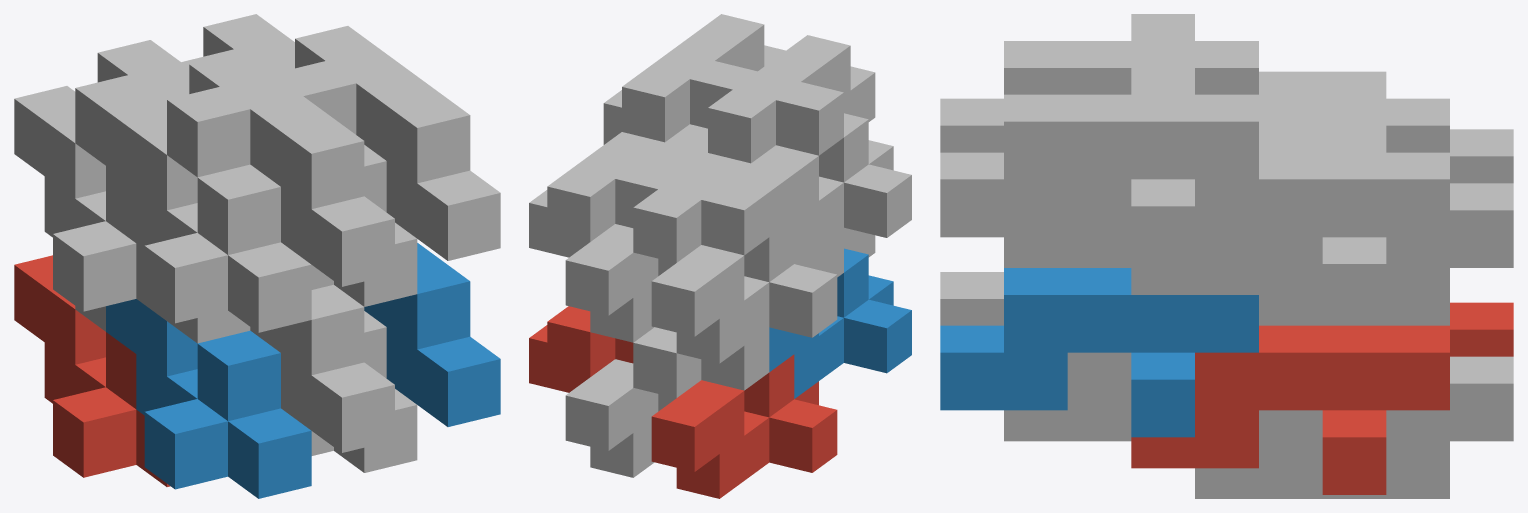
File: tiling.obj
3 renders of one model, left to right at view 1: azimuth 30°, elevation 25°; view 2: azimuth 150°, elevation 25°; view 3: azimuth 270°, elevation 25°, orthographic. The views are drawn at different scales.
Visible parts, largest first — view 1: copy_1_domain_4, copy_2_domain_4, copy_1_domain_2, copy_2_domain_8, copy_1_domain_3, copy_1_domain_1, copy_2_domain_2, copy_2_domain_6, copy_2_domain_3, copy_1_domain_8, copy_1_domain_6, copy_2_domain_7; view 2: copy_1_domain_1, copy_1_domain_3, copy_2_domain_4, copy_1_domain_4, copy_2_domain_8, copy_2_domain_3, copy_2_domain_7, copy_1_domain_2, copy_1_domain_5, copy_1_domain_7, copy_2_domain_1, copy_2_domain_5 (+2 smaller); view 3: copy_2_domain_8, copy_2_domain_7, copy_2_domain_6, copy_2_domain_5, copy_1_domain_5, copy_2_domain_4, copy_1_domain_7, copy_1_domain_8, copy_2_domain_3, copy_1_domain_6, copy_1_domain_1, copy_1_domain_3 (+2 smaller).
Part boxes in pixels (x1=…): copy_1_domain_4: x1=106, y1=97, x2=311, y2=332; copy_2_domain_4: x1=167, y1=51, x2=394, y2=286; copy_1_domain_2: x1=106, y1=299, x2=311, y2=498; copy_2_domain_8: x1=273, y1=26, x2=500, y2=260; copy_1_domain_3: x1=14, y1=86, x2=166, y2=320; copy_1_domain_1: x1=14, y1=255, x2=170, y2=486; copy_2_domain_2: x1=167, y1=284, x2=394, y2=452; copy_2_domain_6: x1=364, y1=243, x2=500, y2=426; copy_2_domain_3: x1=75, y1=40, x2=189, y2=165; copy_1_domain_8: x1=311, y1=145, x2=417, y2=306; copy_1_domain_6: x1=311, y1=311, x2=417, y2=472; copy_2_domain_7: x1=181, y1=14, x2=294, y2=73; copy_1_domain_1: x1=651, y1=354, x2=837, y2=498; copy_1_domain_3: x1=651, y1=219, x2=837, y2=363; copy_2_domain_4: x1=708, y1=35, x2=875, y2=163; copy_1_domain_4: x1=726, y1=113, x2=911, y2=263; copy_2_domain_8: x1=603, y1=14, x2=785, y2=144; copy_2_domain_3: x1=633, y1=153, x2=769, y2=275; copy_2_domain_7: x1=529, y1=132, x2=682, y2=257; copy_1_domain_2: x1=769, y1=248, x2=911, y2=398; copy_1_domain_5: x1=565, y1=359, x2=658, y2=477; copy_1_domain_7: x1=565, y1=224, x2=658, y2=342; copy_2_domain_1: x1=633, y1=327, x2=769, y2=411; copy_2_domain_5: x1=529, y1=306, x2=633, y2=392; copy_2_domain_8: x1=940, y1=68, x2=1258, y2=263; copy_2_domain_7: x1=1131, y1=125, x2=1449, y2=321; copy_2_domain_6: x1=940, y1=268, x2=1258, y2=437; copy_2_domain_5: x1=1131, y1=325, x2=1449, y2=494; copy_1_domain_5: x1=1195, y1=356, x2=1513, y2=498; copy_2_domain_4: x1=940, y1=14, x2=1258, y2=152; copy_1_domain_7: x1=1259, y1=183, x2=1513, y2=325; copy_1_domain_8: x1=1004, y1=125, x2=1322, y2=267; copy_2_domain_3: x1=1259, y1=71, x2=1449, y2=152; copy_1_domain_6: x1=1004, y1=352, x2=1131, y2=441; copy_1_domain_1: x1=1450, y1=302, x2=1513, y2=356; copy_1_domain_3: x1=1450, y1=129, x2=1513, y2=183.
Bounding box in the file's own units: 6 × 7 × 9.
